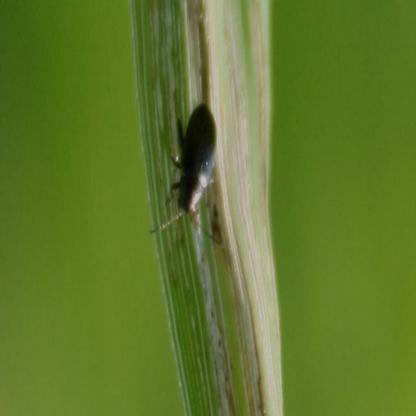rice-bug: (166, 104, 218, 218)
